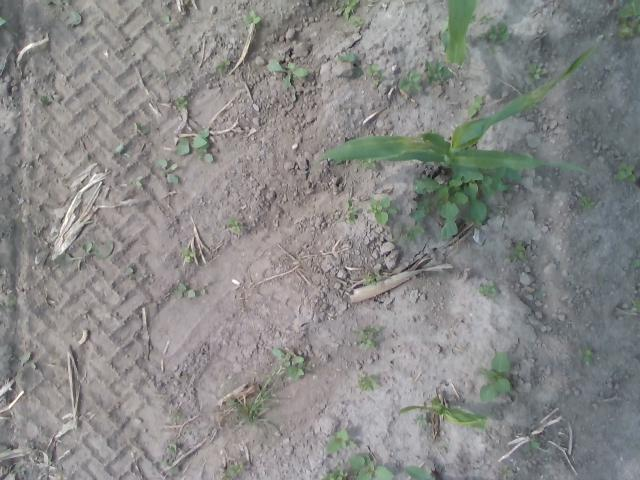Maize: (309, 44, 596, 178), (398, 396, 488, 432), (438, 0, 476, 66), (403, 463, 442, 480)
Weeds: (408, 166, 524, 242), (476, 352, 511, 402), (55, 241, 114, 268), (174, 127, 213, 163), (266, 59, 308, 90), (348, 454, 393, 480), (476, 20, 510, 54), (272, 348, 305, 382), (614, 0, 640, 38), (366, 196, 398, 226), (423, 60, 454, 86), (324, 430, 356, 454), (153, 157, 180, 185), (351, 324, 380, 350), (392, 222, 425, 244), (337, 51, 363, 77), (397, 70, 422, 94), (162, 444, 180, 477), (614, 161, 638, 183), (506, 238, 526, 262), (334, 0, 359, 19), (169, 282, 195, 300), (475, 280, 497, 301), (318, 465, 348, 480), (15, 350, 31, 378), (526, 62, 548, 82), (354, 374, 379, 391), (366, 63, 386, 84), (220, 462, 243, 480), (466, 95, 484, 118), (362, 268, 382, 286), (241, 8, 262, 24), (226, 216, 244, 234), (162, 12, 180, 30), (346, 198, 358, 224), (122, 267, 146, 280), (577, 194, 595, 211), (66, 10, 82, 28), (356, 158, 378, 171), (112, 144, 132, 158), (579, 344, 593, 364), (180, 246, 197, 262), (524, 435, 540, 452), (214, 58, 230, 73), (413, 413, 429, 427), (126, 175, 144, 187), (173, 96, 188, 110), (349, 15, 364, 28), (134, 122, 150, 134), (476, 13, 494, 23), (4, 298, 16, 312), (630, 250, 640, 266), (502, 464, 512, 476), (632, 298, 640, 312), (170, 412, 182, 421), (424, 128, 437, 134), (40, 95, 48, 104), (0, 16, 6, 26), (598, 274, 604, 281)
